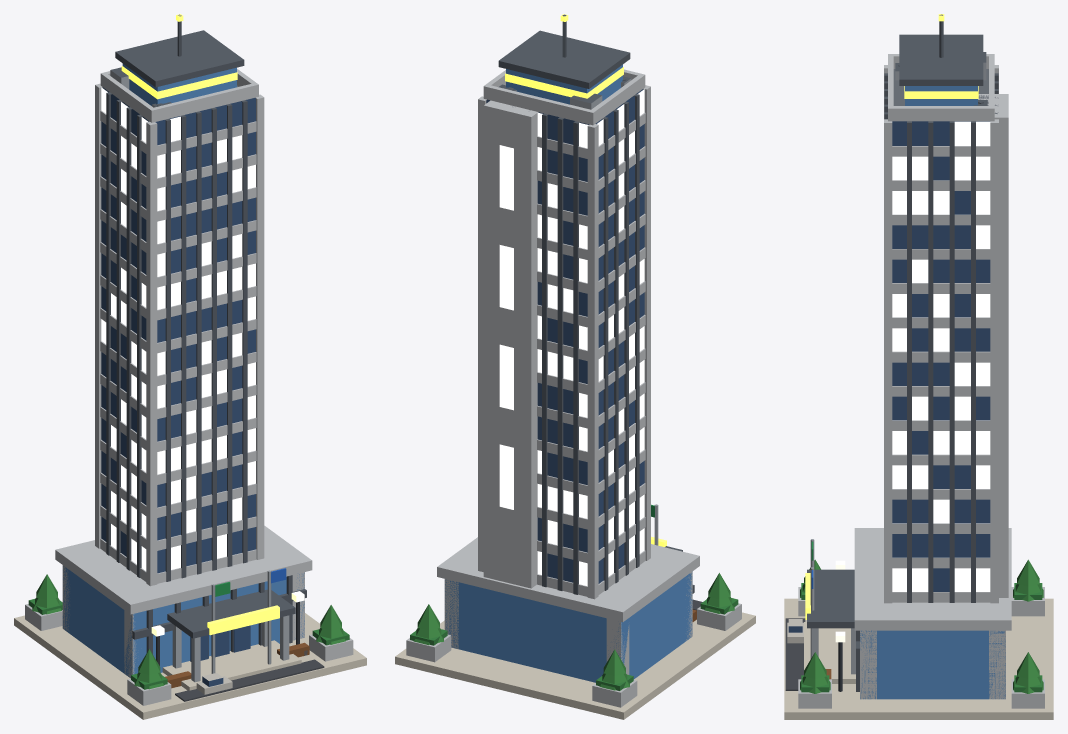
3 renders of one model, left to right at view 1: azimuth 30°, elevation 25°; view 2: azimuth 150°, elevation 25°; view 3: azimuth 270°, elevation 25°, orthographic. The views are drawn at different scales.
Parts seen in each view (by area): view 1: b20_v2; view 2: b20_v2; view 3: b20_v2.
Part boxes in pixels (x1,y1,x2,y2): b20_v2: (14, 14, 366, 719); b20_v2: (395, 14, 755, 719); b20_v2: (784, 14, 1053, 719).
Bounding box in the file's own units: 0.96 × 2.55 × 0.96.
